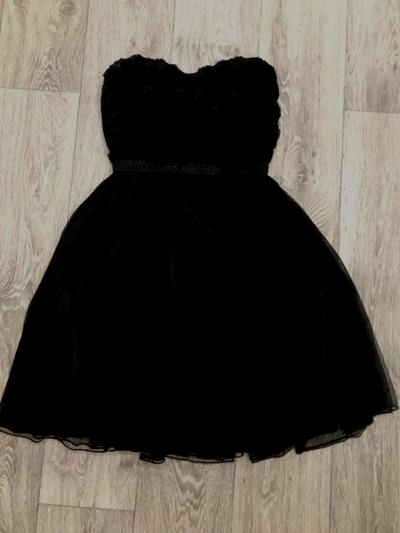Dress: (5, 46, 390, 477)
